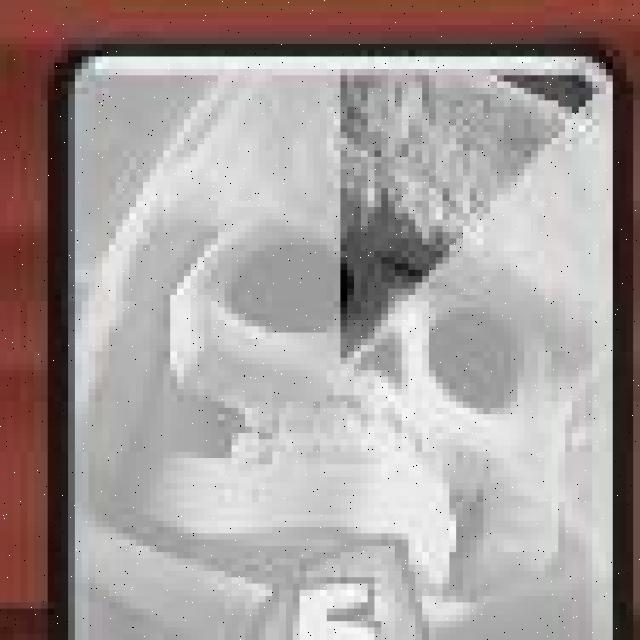Giant_Skeleton: (50, 42, 622, 640)
